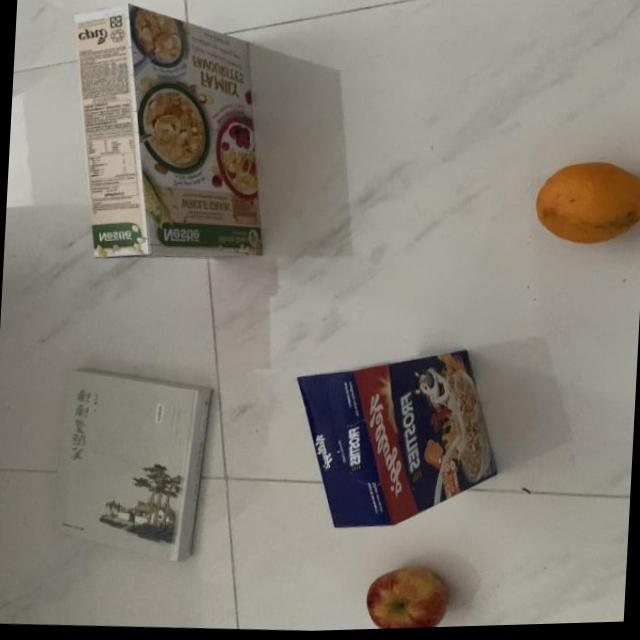Apple: (364, 563, 454, 632)
Book: (54, 363, 214, 567)
Cerealbox: (54, 0, 281, 274), (285, 339, 505, 543)
Orange: (530, 158, 640, 255)
